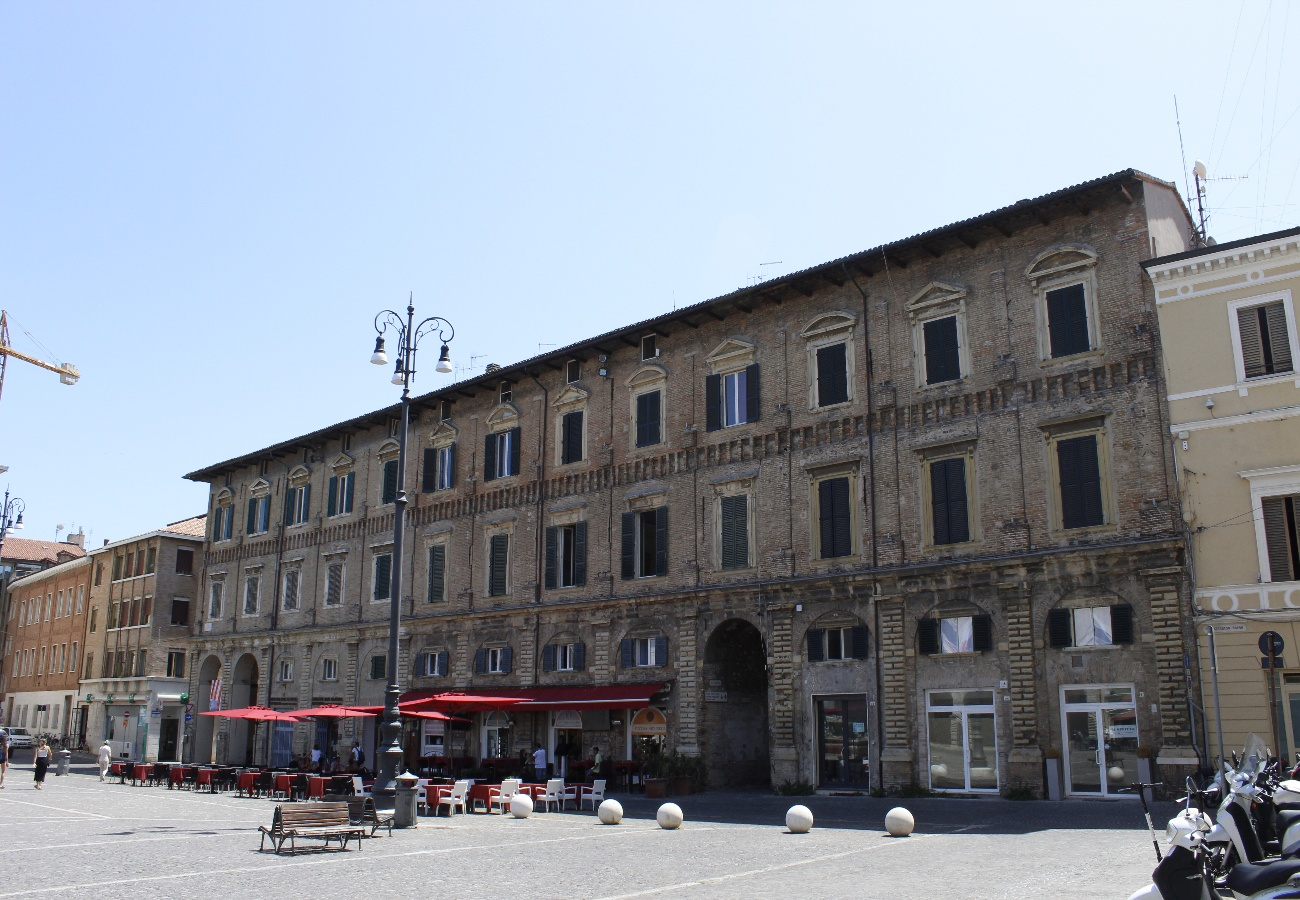Palazzo Baviera: (185, 169, 1186, 818)
